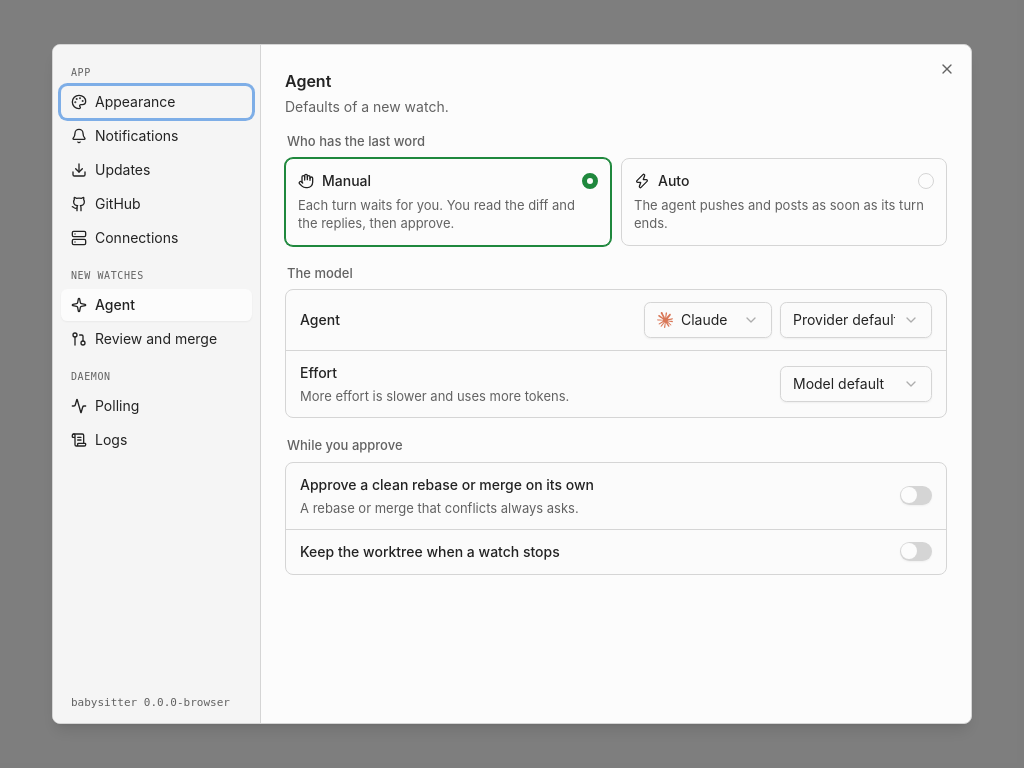
Test case: the agent of a new watch does not offer a provider whose command the daemon did not find
The width and height of the screenshot is (1024, 768).
Click the dropdown named "Agent" at (708,320), box [644,302,772,338]
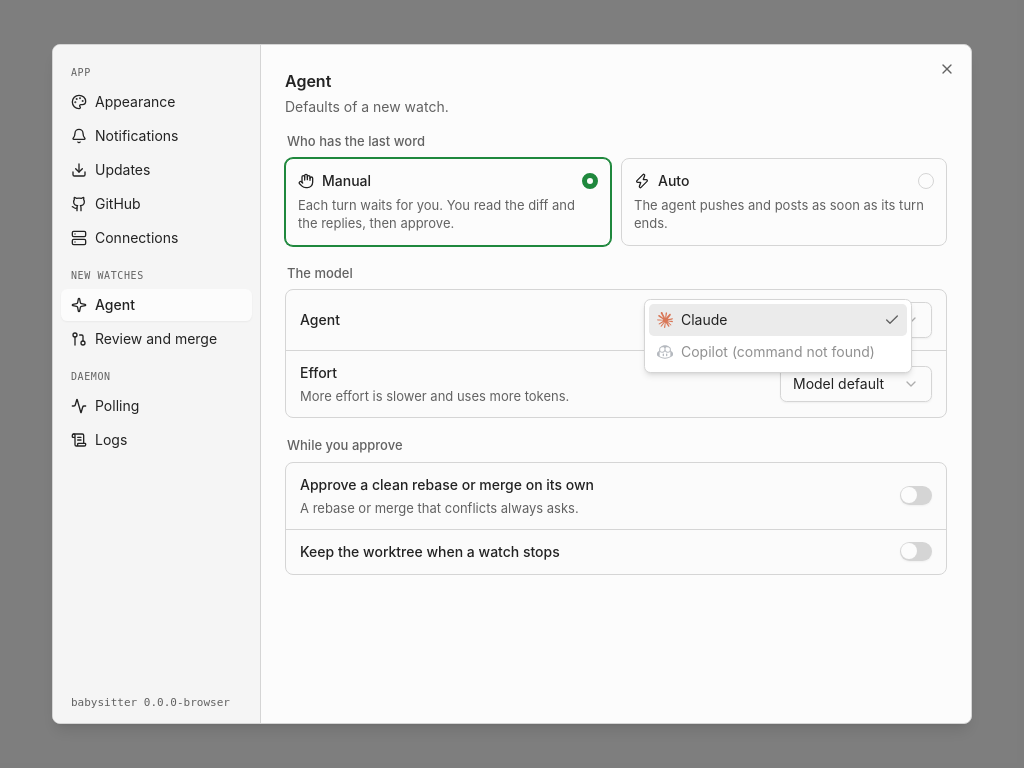
Now the option "Copilot (command not found)" is shown, box [657,343,875,360]
